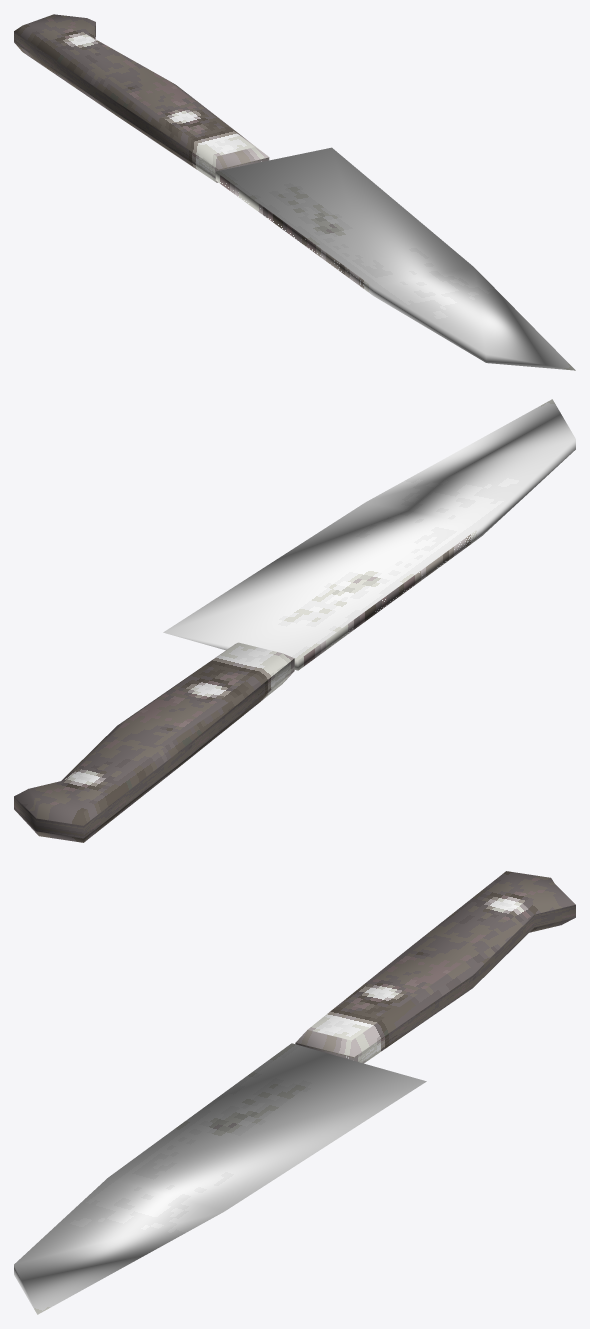
Rendered from silent_hill_knife.glb.
The picture shows the model from 3 angles, top to bottom: view 1: azimuth 30°, elevation 25°; view 2: azimuth 150°, elevation 25°; view 3: azimuth 330°, elevation 25°; orthographic projection. The views are drawn at different scales.
Parts seen in each view (by area): view 1: knife; view 2: knife; view 3: knife.
Boxes of the visible parts, box(x1,y1,x2,y2) form: knife: box(14, 14, 575, 370); knife: box(14, 399, 575, 842); knife: box(14, 871, 575, 1314).
Bounding box in the file's own units: 0.236 × 0.048 × 1.59.
1 material, 1 textured.
